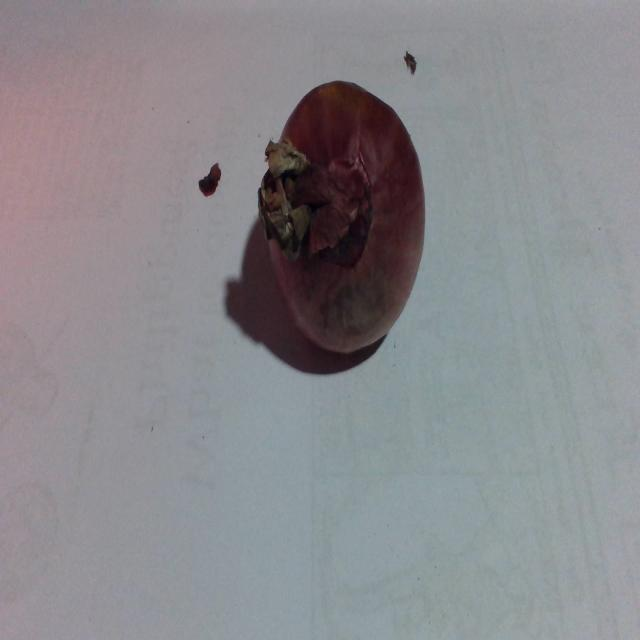onion: (255, 75, 428, 376)
